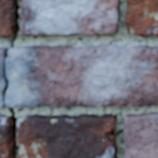brick: (17, 114, 116, 157), (21, 0, 119, 34), (124, 112, 157, 157), (125, 0, 157, 36), (0, 115, 15, 157), (0, 0, 16, 36)
broken_brick: (6, 43, 157, 108), (0, 46, 4, 88)
crack: (0, 2, 19, 155), (103, 124, 114, 142)
